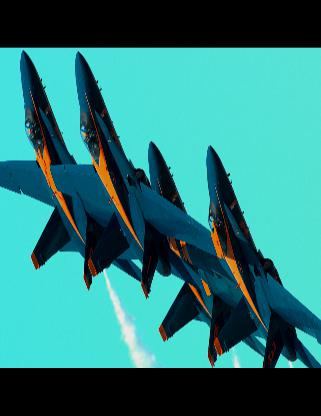F15: (36, 51, 223, 298), (0, 50, 141, 292), (177, 145, 320, 369), (146, 141, 264, 368)
